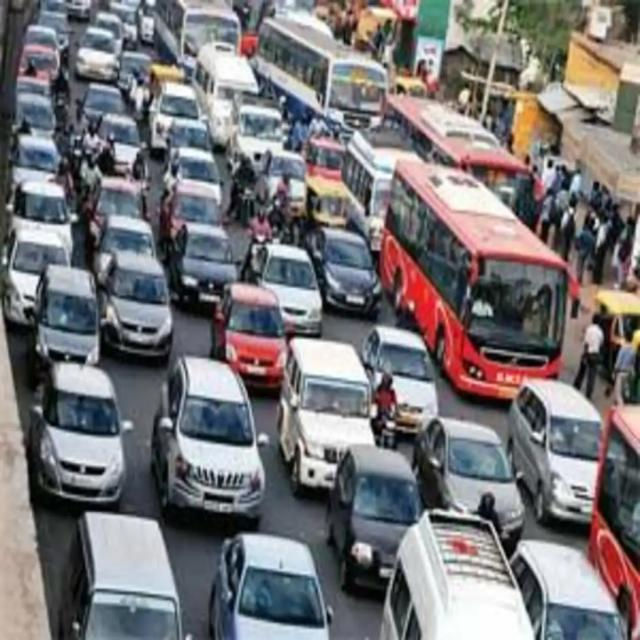Vehicles: (378, 147, 579, 415), (147, 349, 272, 533), (411, 404, 543, 568), (321, 428, 430, 602), (508, 362, 617, 536), (56, 509, 194, 640), (270, 329, 374, 496), (22, 352, 131, 510), (212, 528, 322, 640), (25, 255, 104, 384), (359, 317, 441, 439), (212, 272, 294, 393), (98, 245, 176, 368), (4, 226, 81, 330), (256, 241, 332, 343), (310, 224, 382, 320), (168, 219, 243, 311), (301, 170, 351, 232)
